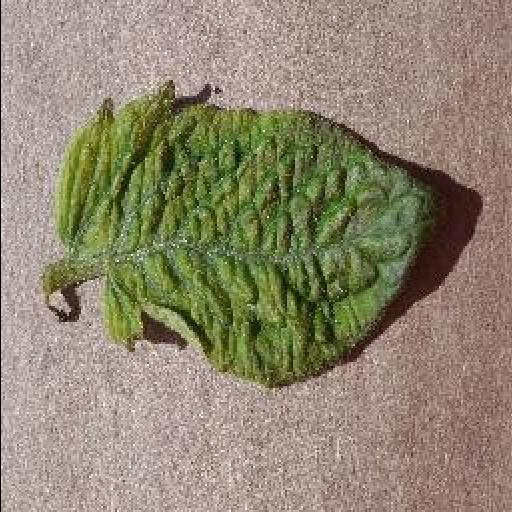disease_tomato: (58, 84, 434, 386)
